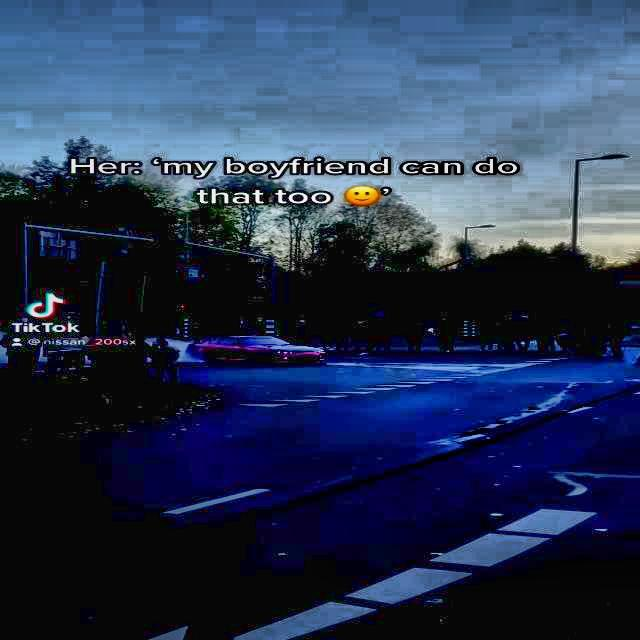carro: (188, 334, 330, 368)
